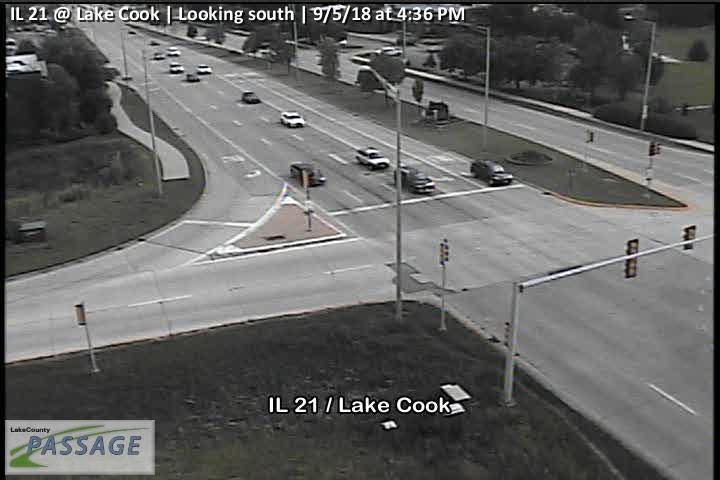SUV: (469, 158, 514, 185), (393, 165, 436, 193), (355, 146, 390, 170)
Sedan: (290, 162, 326, 186), (280, 111, 305, 127), (242, 91, 260, 104)
